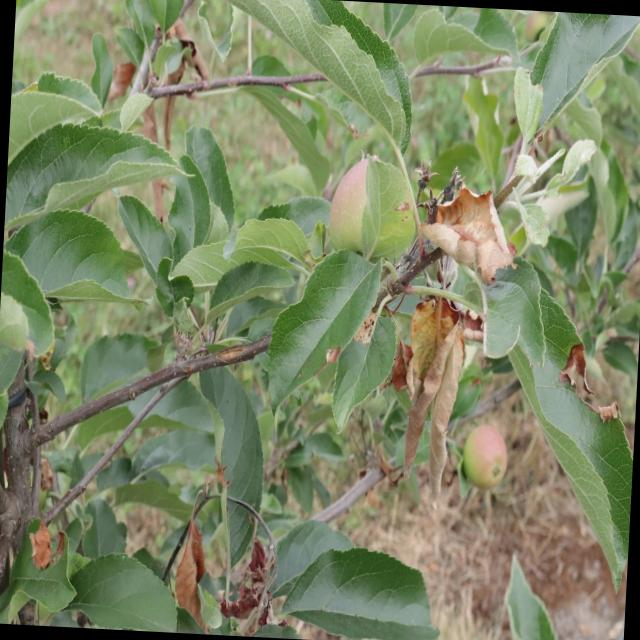-FireBlight-: (385, 296, 488, 507), (131, 27, 210, 221), (428, 186, 524, 285), (211, 528, 276, 638), (167, 508, 206, 629), (29, 493, 69, 558)
